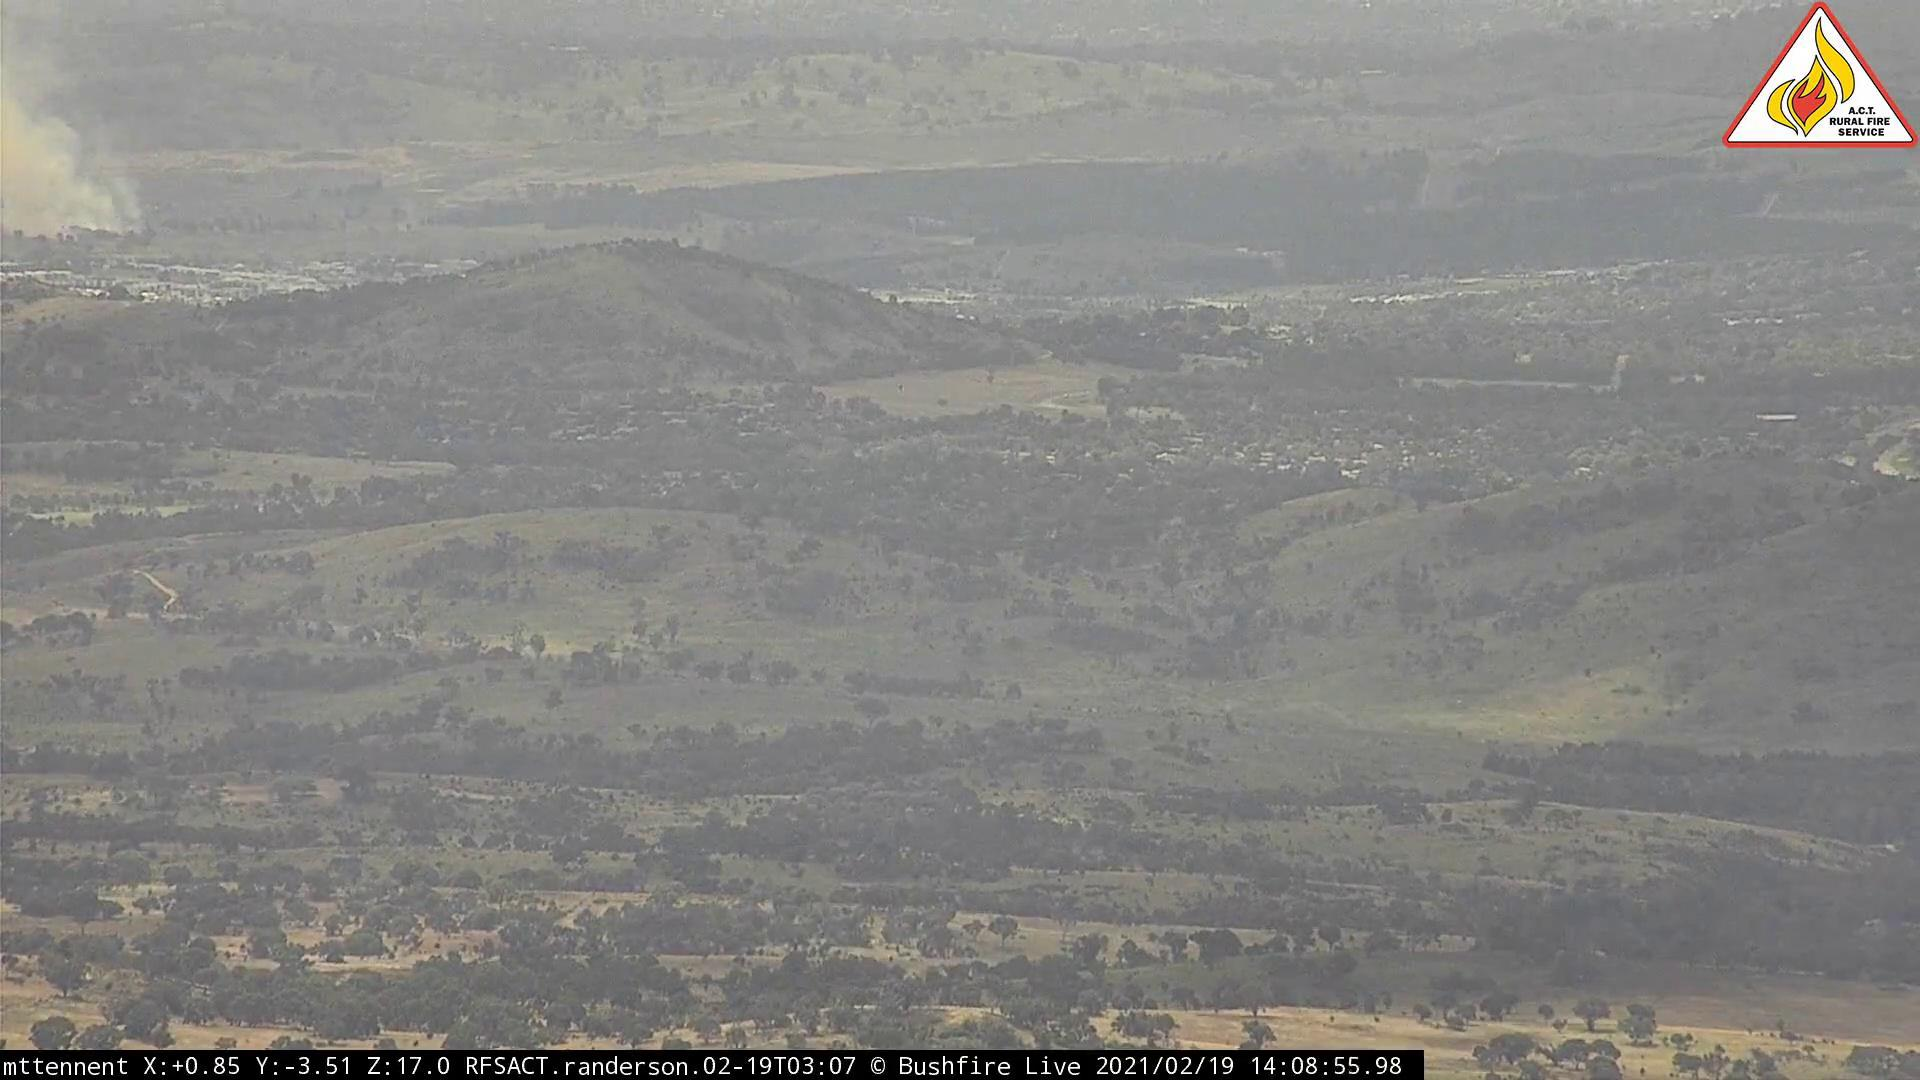Smoke: (3, 3, 160, 239)
